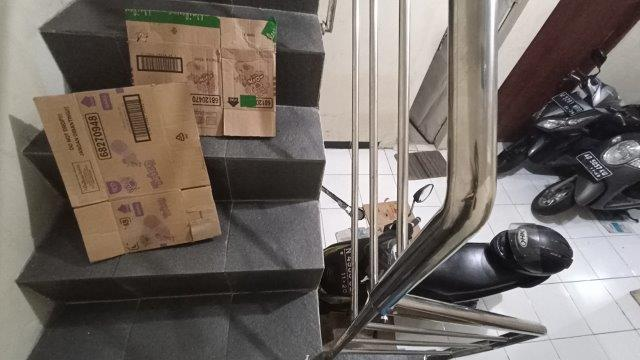kardus: (34, 84, 220, 260), (126, 4, 275, 137), (364, 203, 419, 235)
